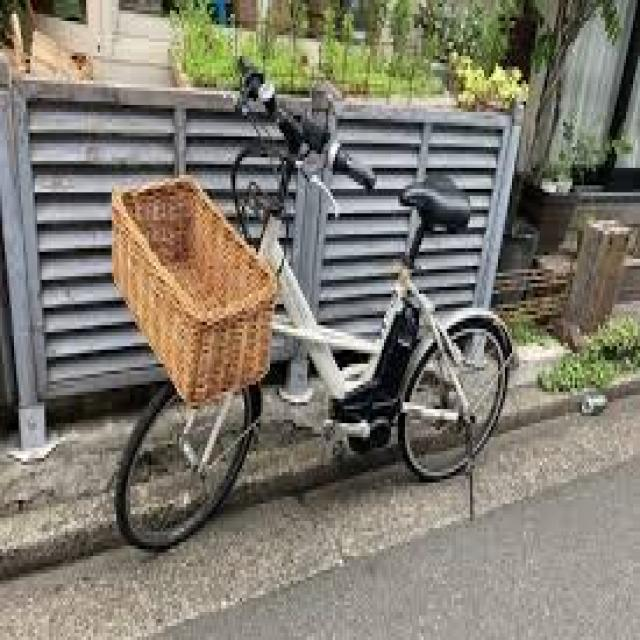basket: (110, 175, 270, 404)
